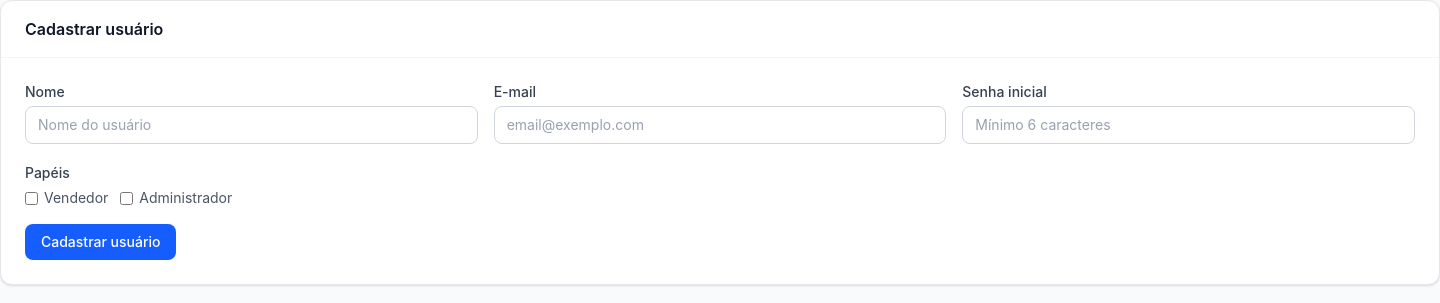
Test case: UsuarioForm › should toggle papeis and submit the selected ids, resetting the form after
Type "Fulano" into the field labelled "Nome" at (251, 125), box [25,106,478,144]
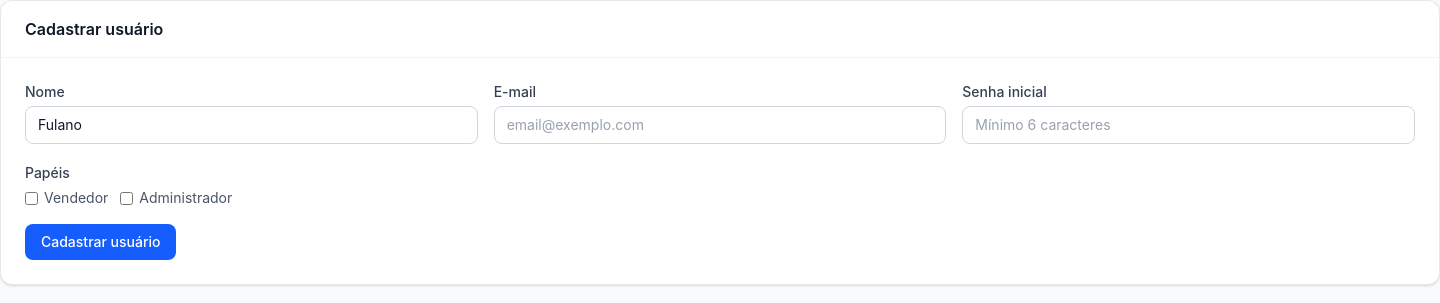
Type "fulano@teste.com" into the field labelled "E-mail" at (720, 125), box [494,106,946,144]
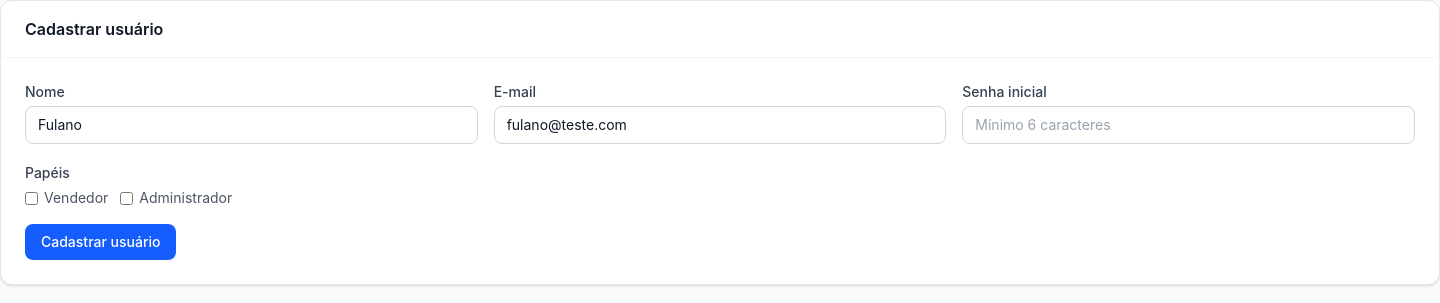
Type "123456" into the password field labelled "Senha inicial" at (1189, 125), box [962,106,1415,144]
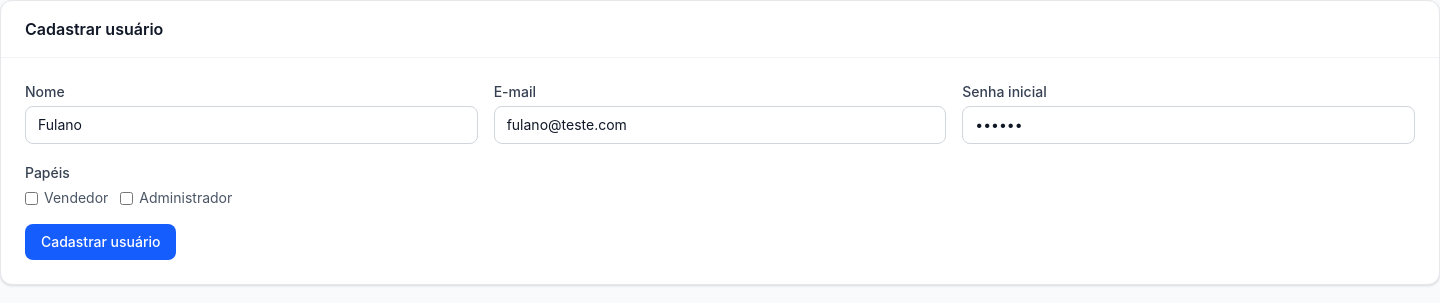
Click the checkbox labelled "Vendedor" at (32, 198), box [25,192,38,204]
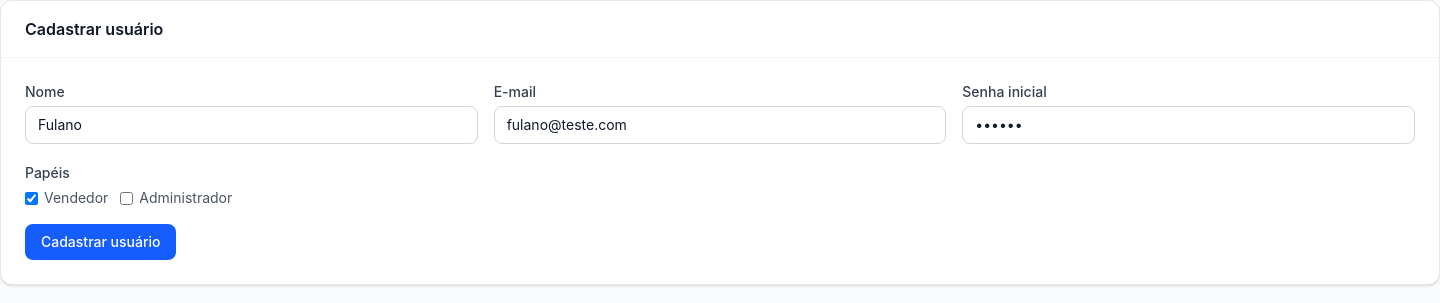
Click the button "Cadastrar usuário" at (101, 242), box [25,224,176,260]
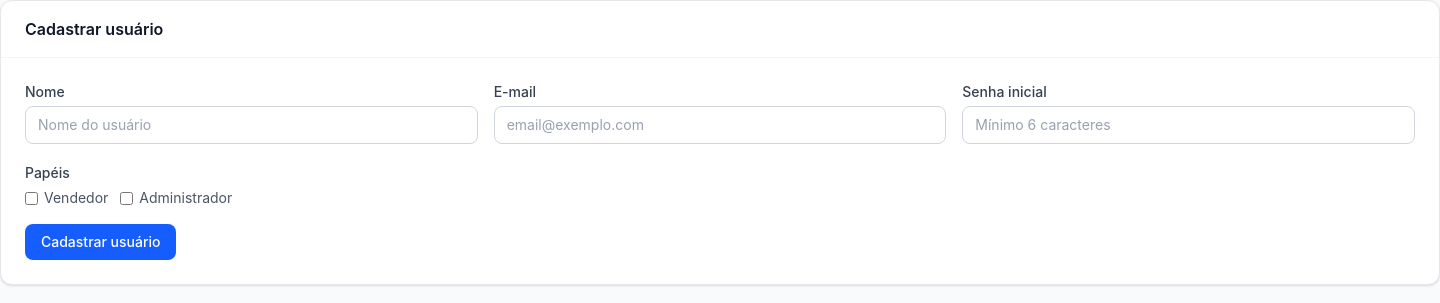
Check: the checkbox labelled "Vendedor" is not checked, box [25,192,38,204]
Check: the field labelled "Nome" is empty, box [25,106,478,144]
